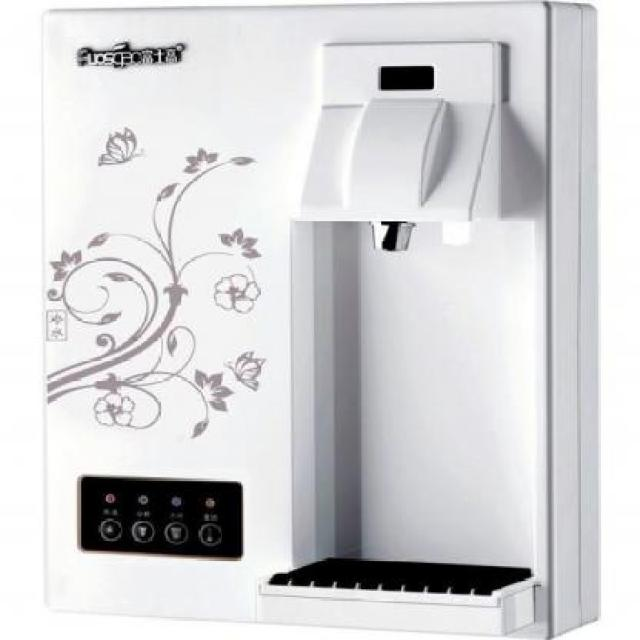cooler: (30, 1, 601, 640)
